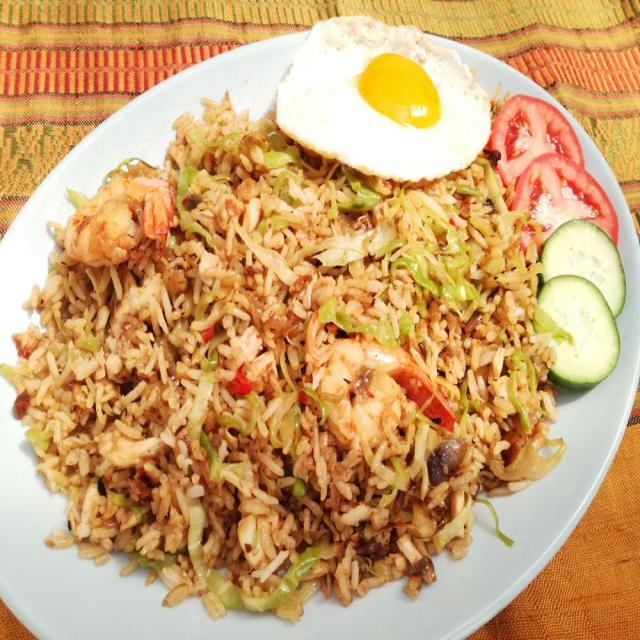Nasi Goreng: (44, 88, 541, 596)
